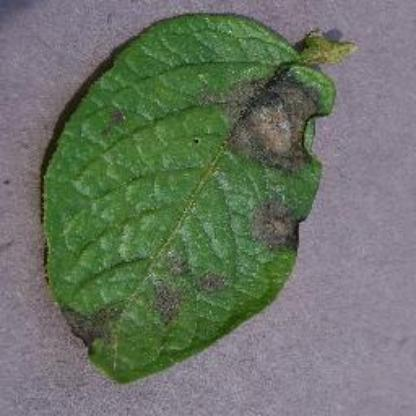Late-Blight: (36, 7, 358, 386)
